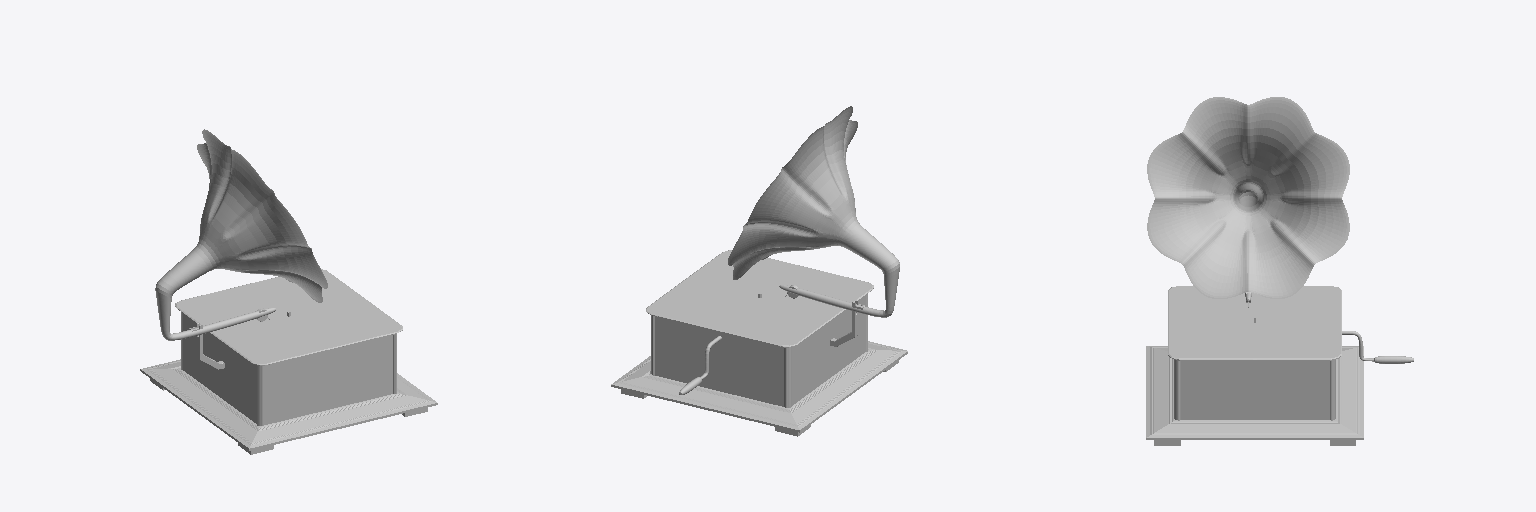
Rendered from gramophone.obj.
3 renders of one model, left to right at view 1: azimuth 30°, elevation 25°; view 2: azimuth 150°, elevation 25°; view 3: azimuth 270°, elevation 25°, orthographic.
Parts seen in each view (by area): view 1: gramophone_Cube, horn_Circle.002; view 2: gramophone_Cube, horn_Circle.002; view 3: horn_Circle.002, gramophone_Cube.
Part boxes in pixels (x1,y1,x2,y2): gramophone_Cube: (140, 269, 437, 450); horn_Circle.002: (155, 129, 327, 340); gramophone_Cube: (611, 250, 907, 432); horn_Circle.002: (728, 106, 899, 317); horn_Circle.002: (1147, 97, 1349, 301); gramophone_Cube: (1146, 286, 1363, 439).
Size of the model in its own units: 3.33 by 3.77 by 3.36.